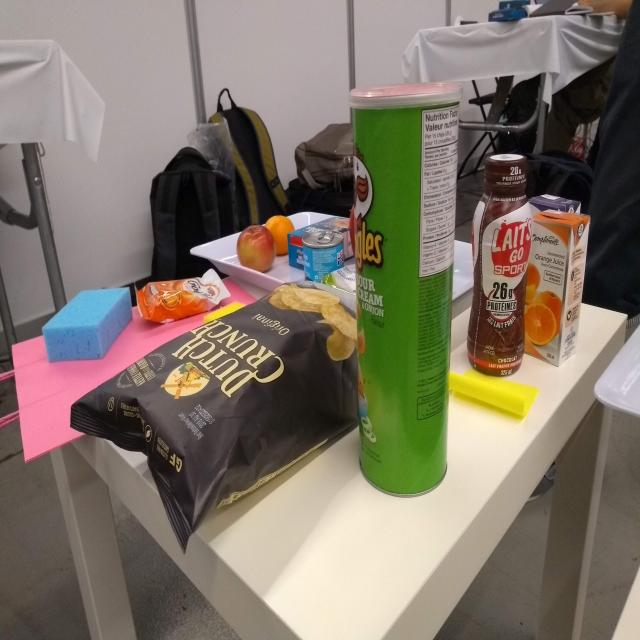chocolate_drink: (464, 151, 534, 379)
crackers: (133, 269, 233, 325)
potato_chips: (68, 277, 370, 559)
pringles: (345, 75, 464, 501), (236, 222, 277, 274)
sponge_opl: (41, 282, 134, 366)
